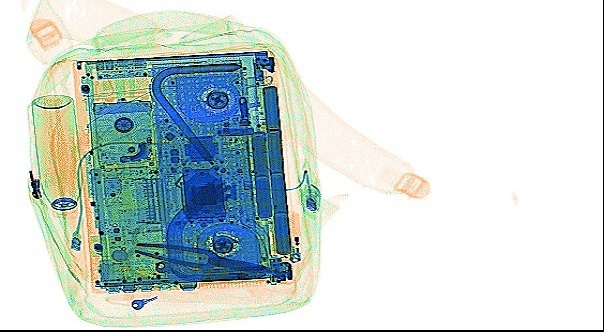lighter: (286, 206, 301, 263)
pressure: (30, 92, 83, 219)
scissors: (123, 217, 283, 285)
